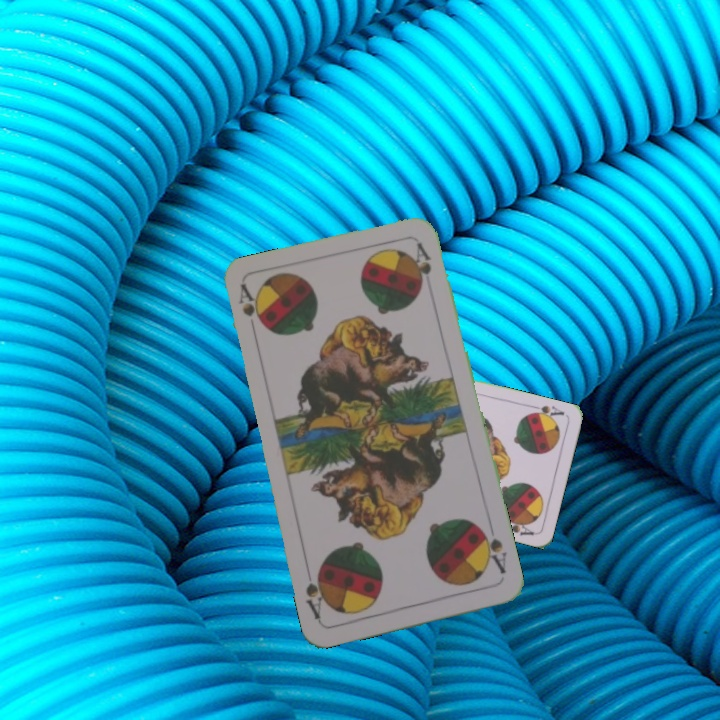SA: (476, 524, 510, 577), (234, 281, 264, 328), (526, 401, 567, 423)
